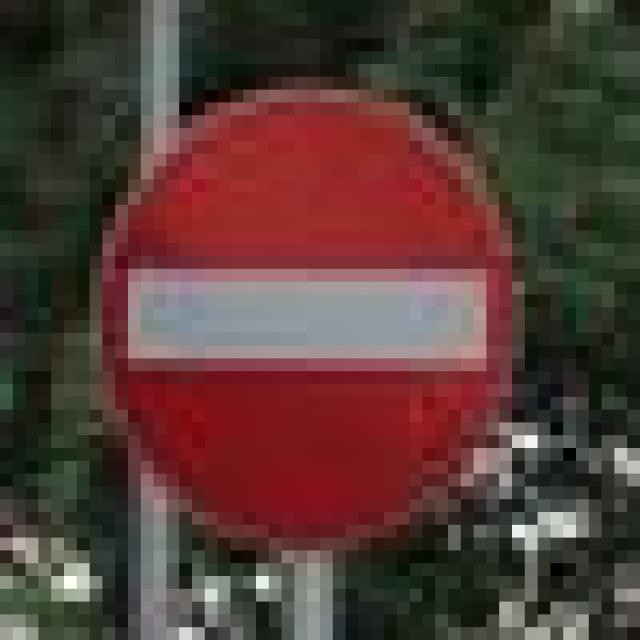NO_ENTRY: (77, 64, 499, 525)
